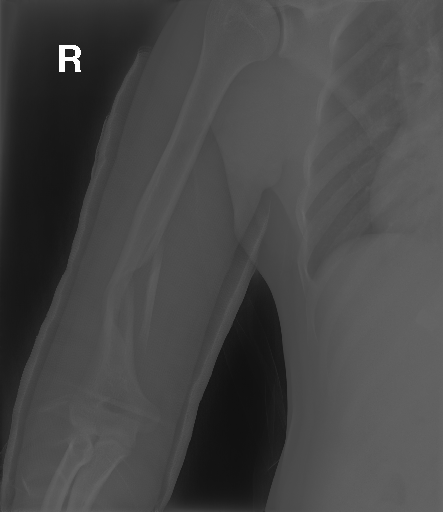fracture: (103, 234, 161, 358)
